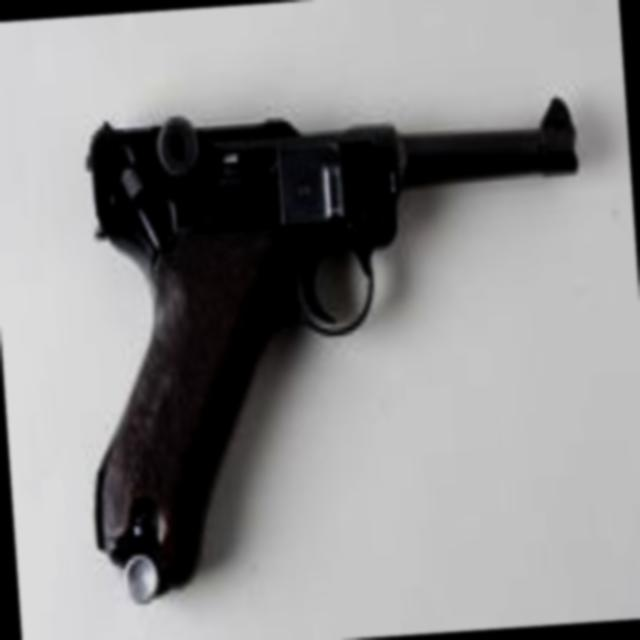semi automatic: (63, 73, 626, 616)
